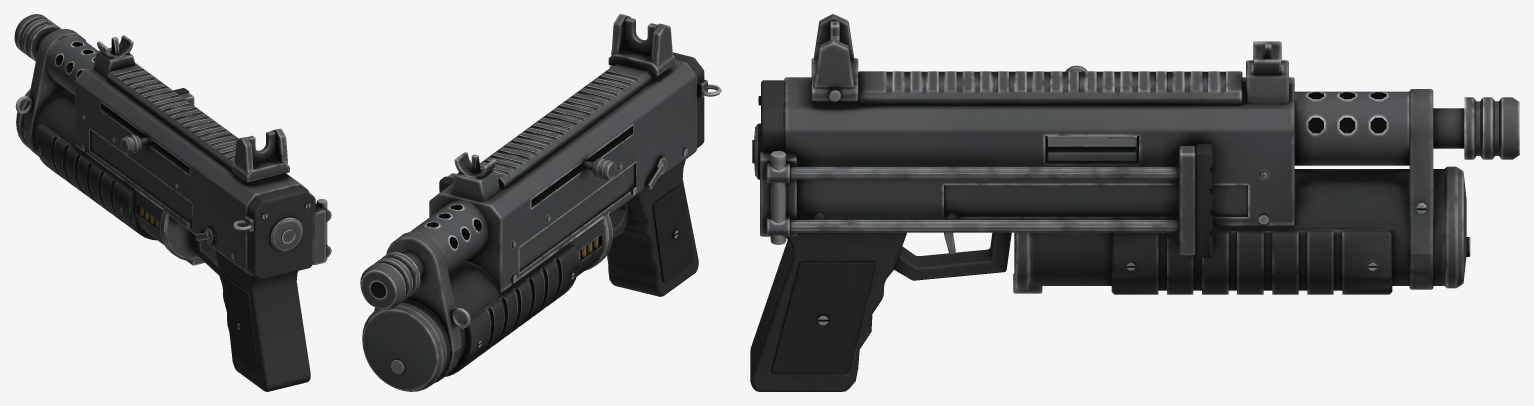
Rendered from smg-fp.glb.
3 renders of one model, left to right at view 1: azimuth 30°, elevation 25°; view 2: azimuth 150°, elevation 25°; view 3: azimuth 270°, elevation 25°, orthographic. The views are drawn at different scales.
Parts seen in each view (by area): view 1: submachine gun, mag-mesh, bolt-mesh; view 2: submachine gun, mag-mesh, bolt-mesh; view 3: submachine gun, mag-mesh, bolt-mesh.
Part boxes in pixels (x1,y1,x2,y2): submachine gun: (14, 14, 331, 391); mag-mesh: (16, 89, 204, 265); bolt-mesh: (120, 135, 152, 154); submachine gun: (360, 14, 721, 351); mag-mesh: (362, 214, 612, 391); bolt-mesh: (579, 158, 615, 180); submachine gun: (750, 14, 1519, 391); mag-mesh: (1013, 166, 1470, 294); bolt-mesh: (1047, 65, 1136, 160).
Bounding box in the file's own units: 0.236 × 0.5011 × 1.
Materials: 1 (1 with a texture image).
